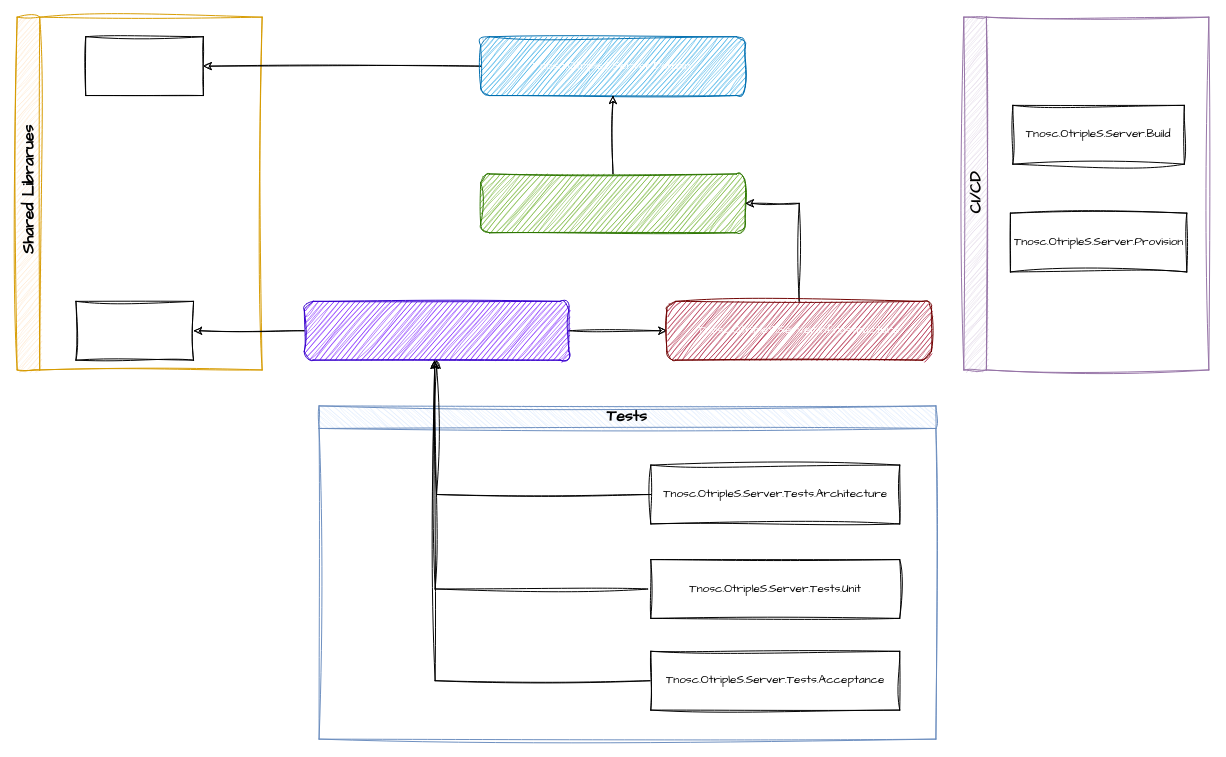
Image size: 1226x757. Some labels were removed from this diagram. The shapes that lost their labels are listed below. From the top down, each one's centre as x and y in pixels, then its label:
point (144, 66): Tnosc.Lib.Domain
point (612, 203): Tnosc.OtripleS.Server.Application
point (134, 330): Tnosc.Lib.Api
point (436, 330): Tnosc.OtripleS.Server.Api
